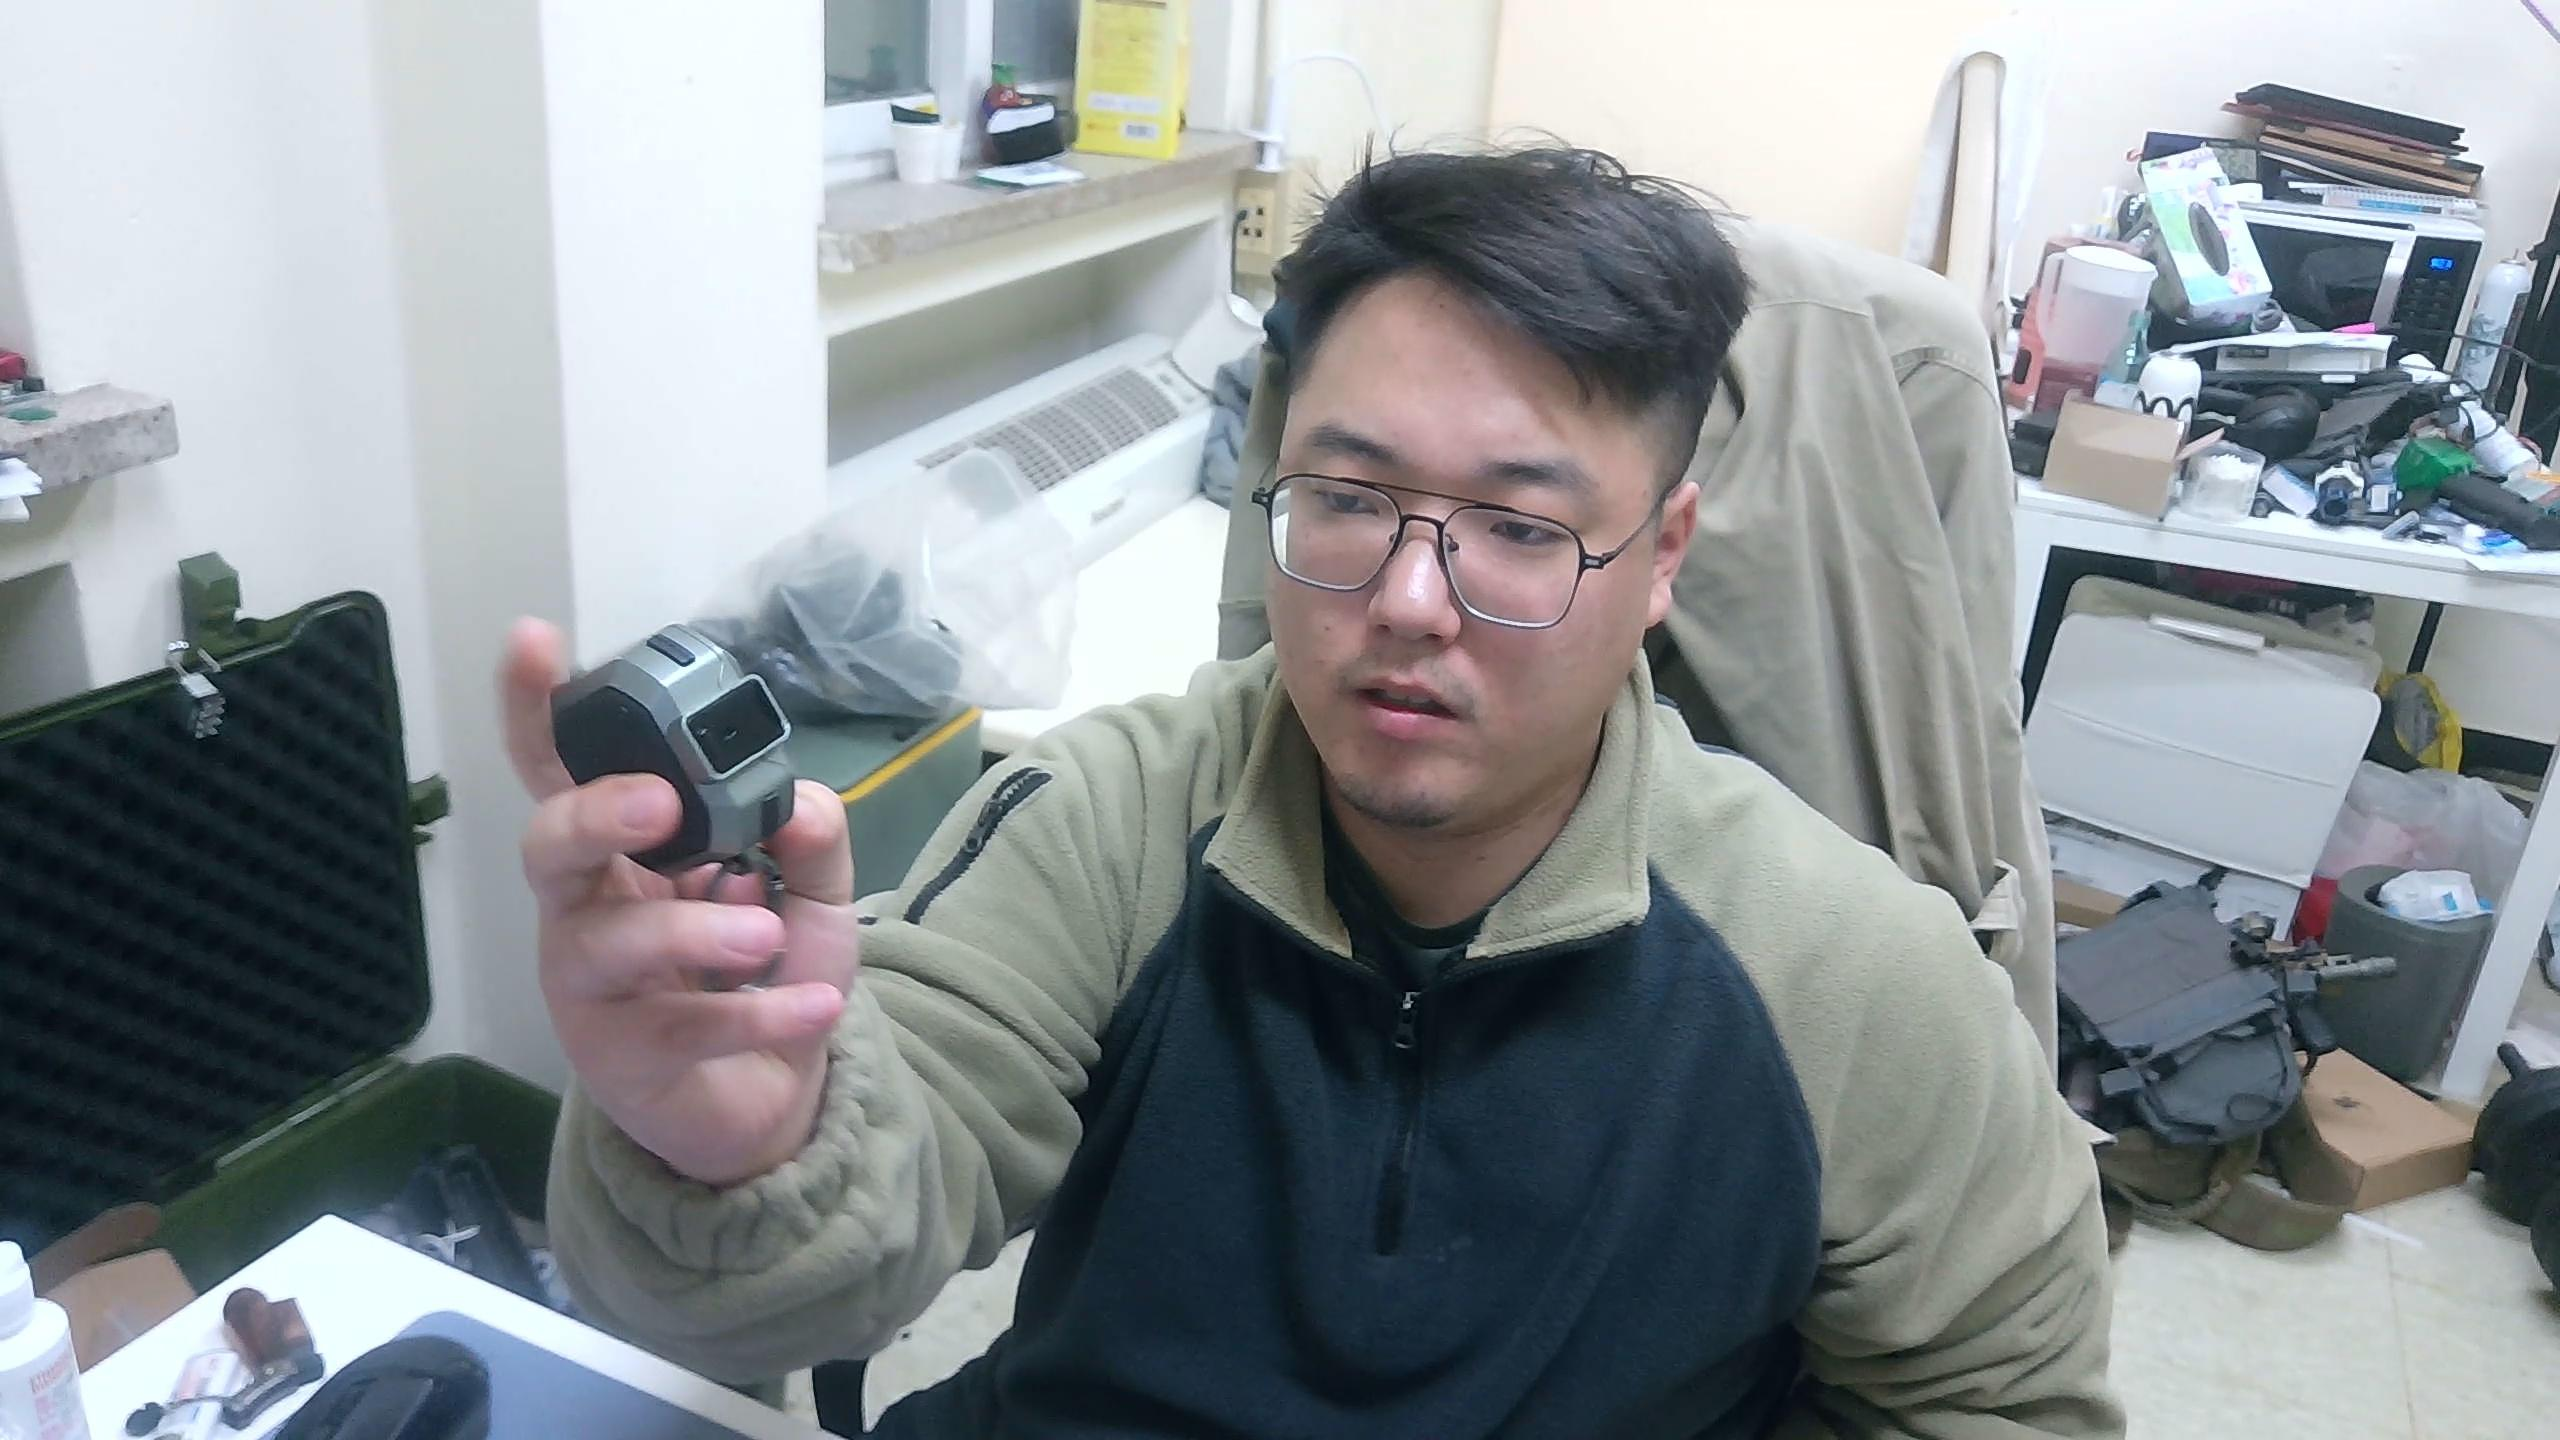blue_pliers: (547, 621, 800, 881)
